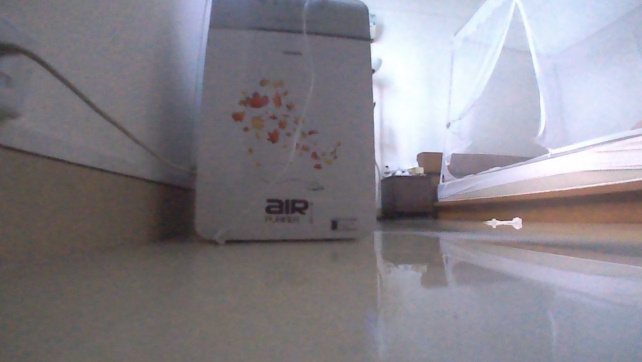bed1: (416, 123, 641, 225)
cabinet: (378, 172, 442, 222)
wire: (210, 0, 320, 248), (0, 36, 195, 175)
